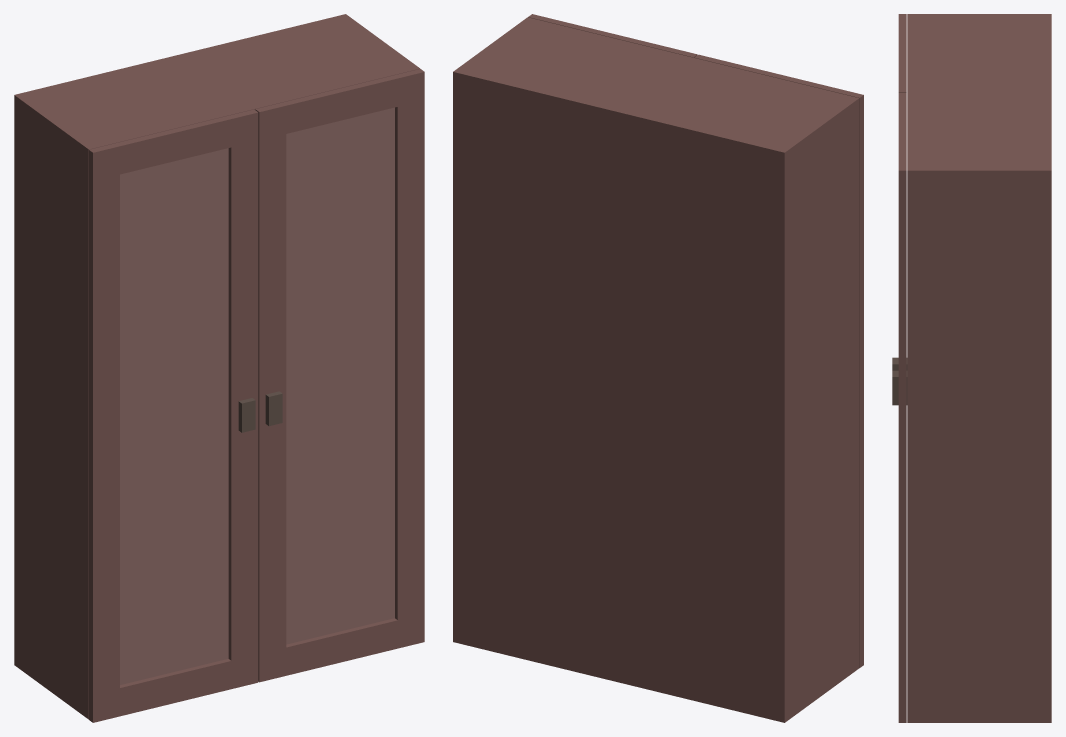
Rendered from wardrobe.fbx.
3 renders of one model, left to right at view 1: azimuth 30°, elevation 25°; view 2: azimuth 150°, elevation 25°; view 3: azimuth 270°, elevation 25°, orthographic. The views are drawn at different scales.
Visible parts, largest first — view 1: RoomFurniture_08; view 2: RoomFurniture_08; view 3: RoomFurniture_08.
Boxes of the visible parts, bbox=[...] form: RoomFurniture_08: bbox=[14, 14, 424, 722]; RoomFurniture_08: bbox=[453, 14, 863, 722]; RoomFurniture_08: bbox=[892, 14, 1051, 722].
Bounding box in the file's own units: 220 × 362 × 94.68.
